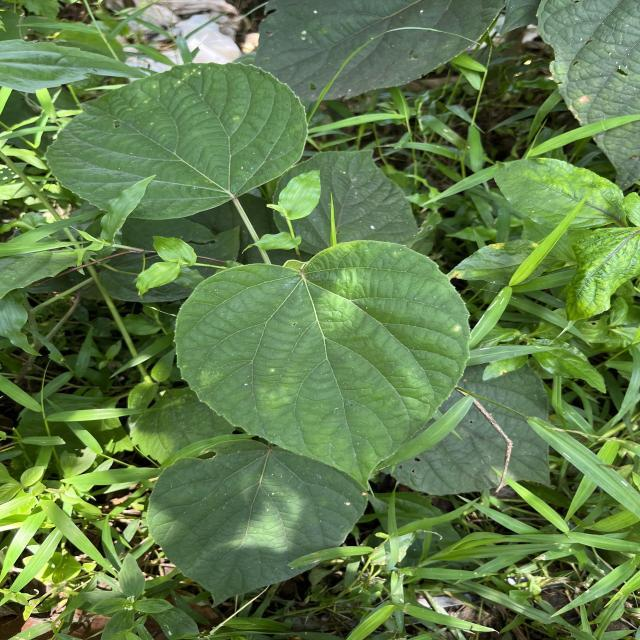Clerodendrum infortunatum: (171, 238, 474, 493), (44, 60, 310, 222), (145, 437, 370, 610)
